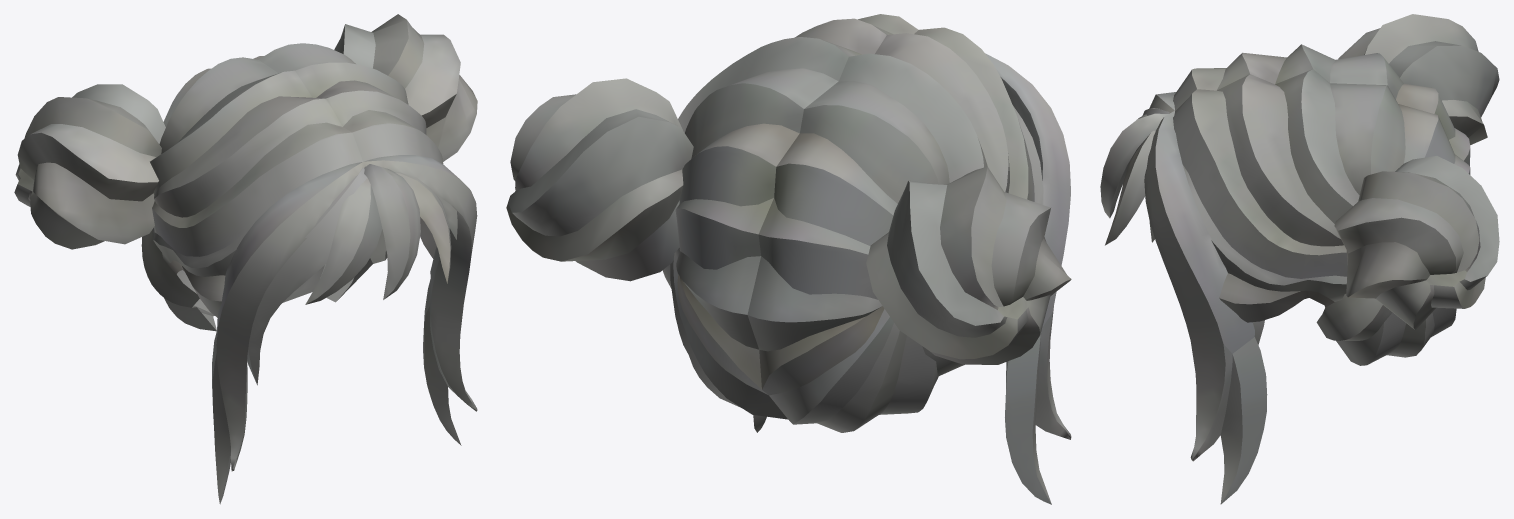
File: hair-bob.7d0f92ee.glb
3 views of the same model, side by side, from view 1: azimuth 30°, elevation 25°; view 2: azimuth 150°, elevation 25°; view 3: azimuth 270°, elevation 25° (orthographic). The views are drawn at different scales.
Visible parts, largest first — view 1: Hair_Buns; view 2: Hair_Buns; view 3: Hair_Buns.
Boxes of the visible parts, x1,y1,x2,y2 form: Hair_Buns: (14,14,477,504); Hair_Buns: (506,14,1071,504); Hair_Buns: (1100,14,1499,504).
Size of the model in its own units: 0.3015 by 0.2491 by 0.2368.
Materials: 1 (1 with a texture image).
